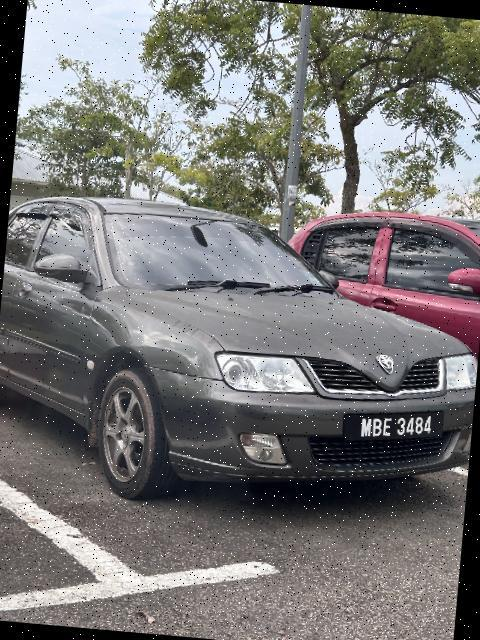License_Plate: (346, 407, 446, 449)
MBE3484: (346, 407, 446, 449)
car: (1, 182, 480, 529)
